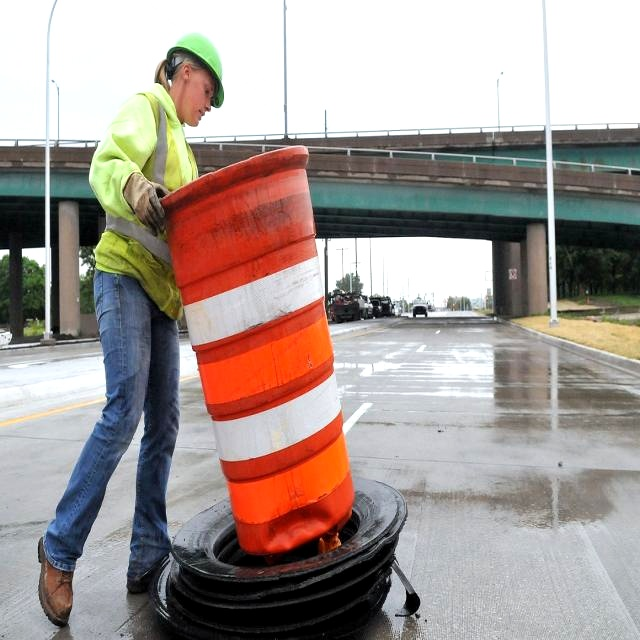Con_Casco: (165, 33, 223, 127)
Con_Chaleco: (95, 82, 199, 306)
